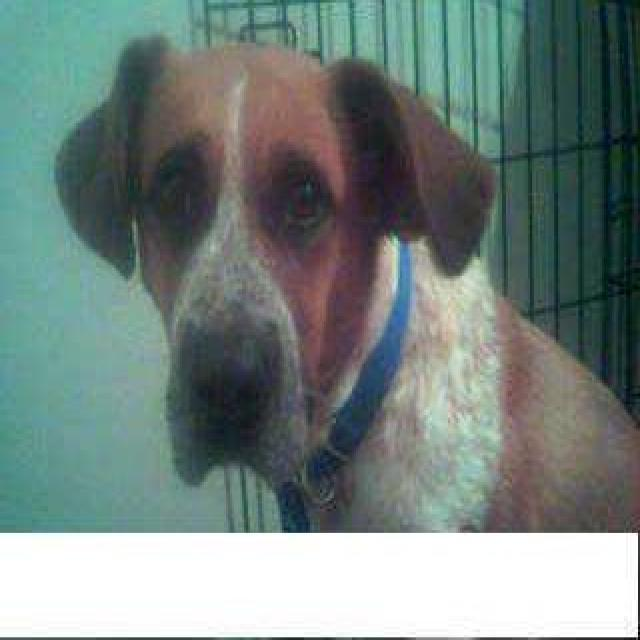dog: (52, 29, 638, 533)
